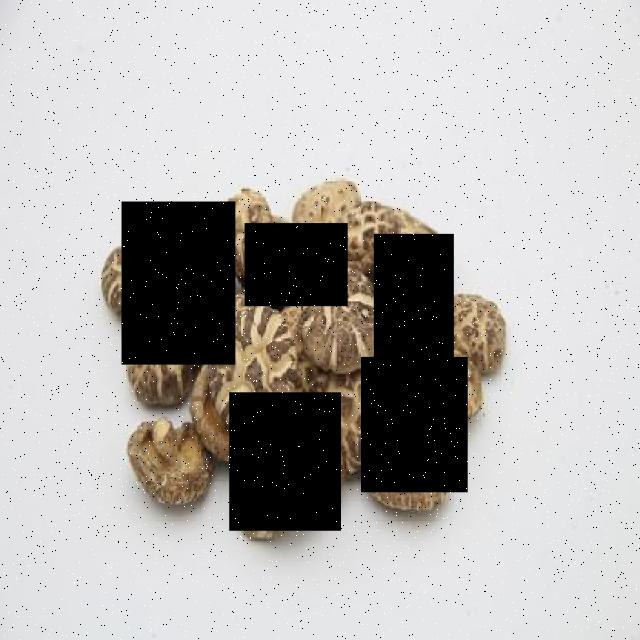Mushroom: (122, 202, 236, 366), (230, 392, 341, 531), (360, 357, 468, 492), (374, 234, 454, 358), (245, 224, 348, 307)
